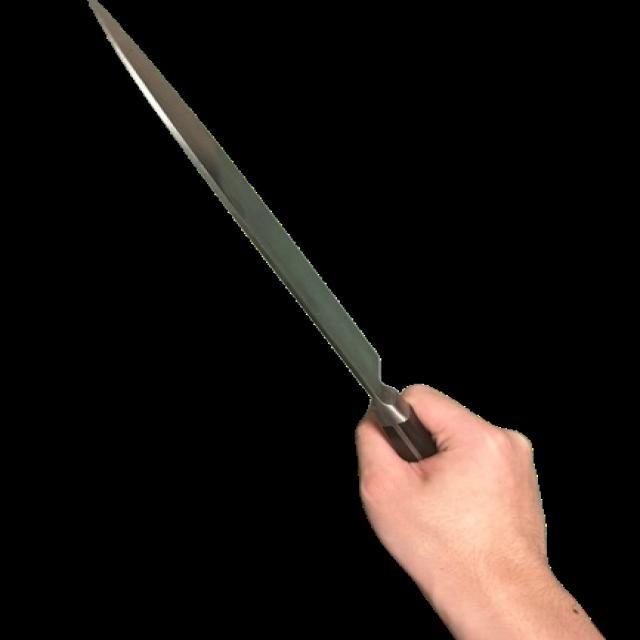knife: (82, 0, 439, 461)
